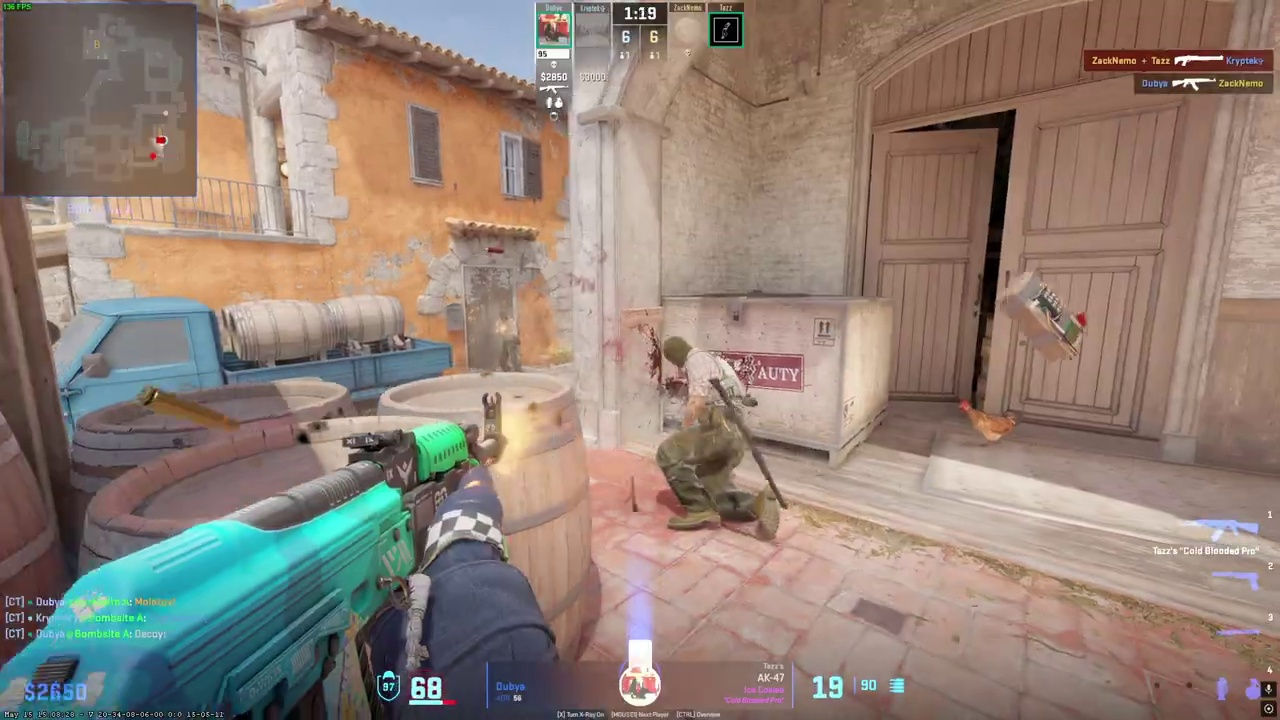Terrorist: (491, 311, 524, 373)
